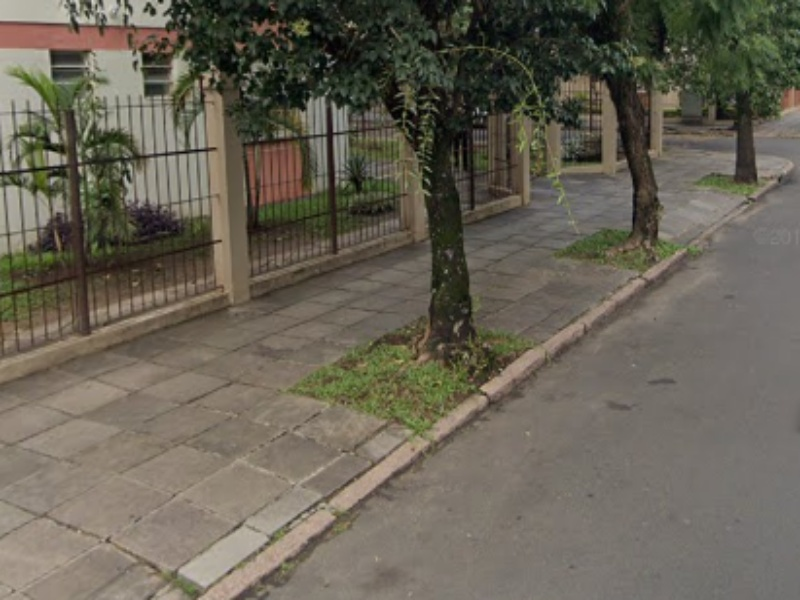v46: (213, 241, 665, 589)
